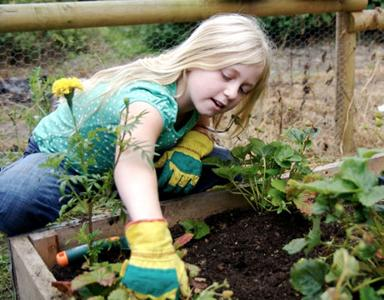person: (3, 13, 275, 300)
